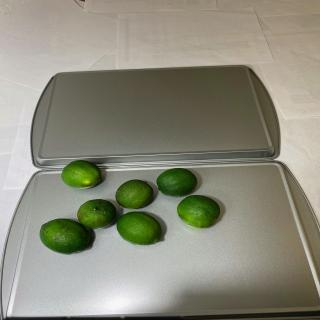Lemon: (39, 218, 91, 255), (116, 211, 162, 246), (177, 195, 220, 228), (156, 168, 198, 197), (115, 179, 154, 209), (77, 199, 116, 229), (61, 160, 101, 189)
